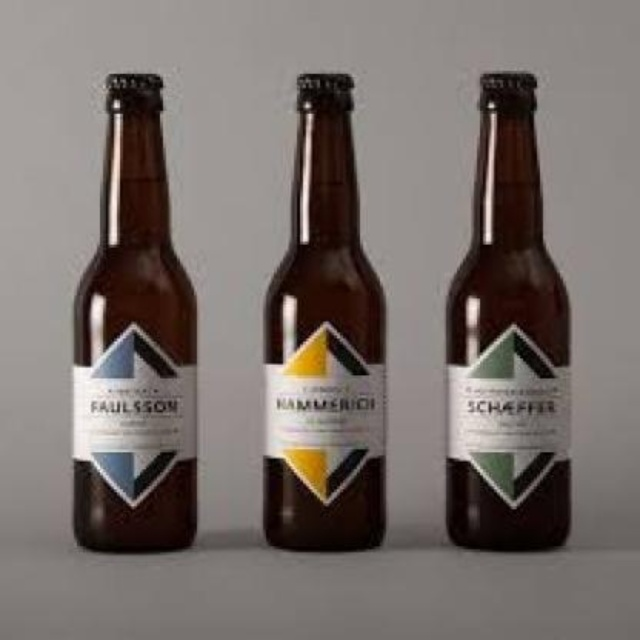trash: (446, 74, 569, 548), (74, 74, 195, 549), (265, 74, 385, 549)
